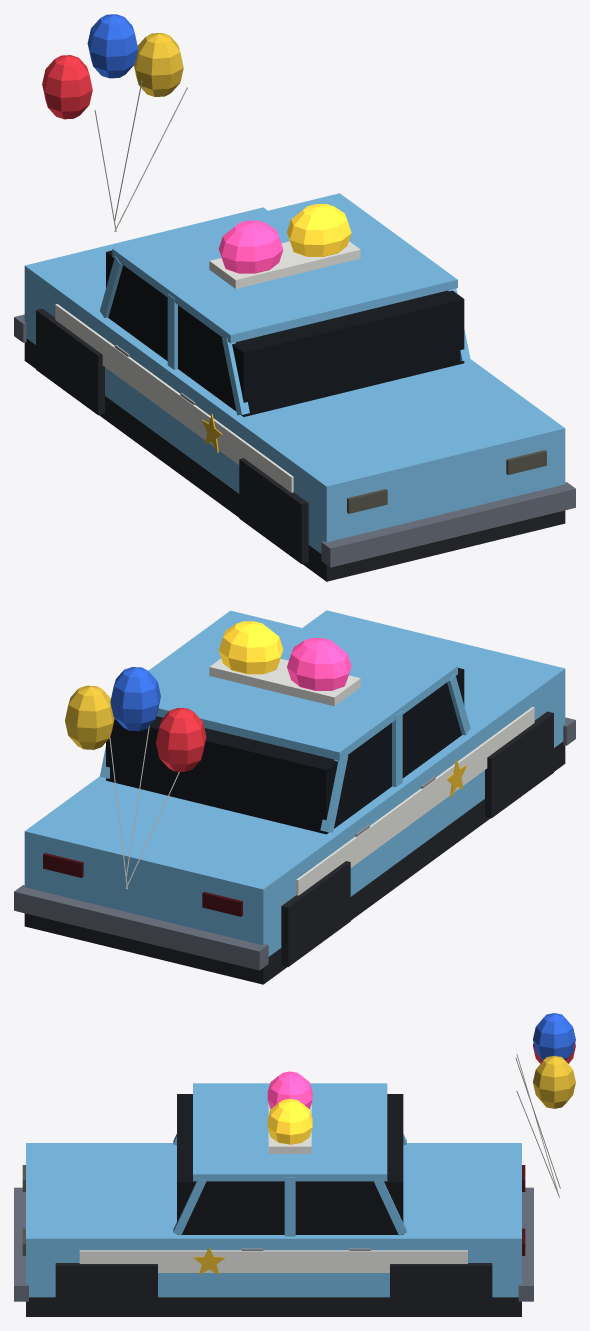
File: party_patrol.glb
The picture shows the model from 3 angles, top to bottom: view 1: azimuth 30°, elevation 25°; view 2: azimuth 150°, elevation 25°; view 3: azimuth 270°, elevation 25°; orthographic projection. The views are drawn at different scales.
Parts seen in each view (by area): view 1: body_party_patrol_sky, body_getaway_glass, body_car_black, balloons, body_car_grey, body_party_patrol_white, siren_toy_siren_pink, siren_toy_siren_yellow, siren_party_patrol_white, frame_party_patrol_sky, lights_lamp_off, balloons_party_patrol_white; view 2: body_party_patrol_sky, body_getaway_glass, body_car_black, balloons, body_car_grey, body_party_patrol_white, siren_toy_siren_yellow, siren_toy_siren_pink, siren_party_patrol_white, frame_party_patrol_sky, lights_tail_off, balloons_party_patrol_white; view 3: body_party_patrol_sky, body_car_black, body_getaway_glass, body_party_patrol_white, balloons, body_car_grey, frame_party_patrol_sky, siren_toy_siren_yellow, siren_toy_siren_pink, siren_party_patrol_white, balloons_party_patrol_white, body_paper_star.
Part boxes in pixels (x1,y1,x2,y2): body_party_patrol_sky: (24,193,565,553); body_getaway_glass: (106,250,464,416); body_car_black: (24,308,565,581); balloons: (42,14,183,119); body_car_grey: (14,314,575,567); body_party_patrol_white: (55,304,293,492); siren_toy_siren_pink: (218,220,283,273); siren_toy_siren_yellow: (287,204,351,256); siren_party_patrol_white: (209,241,360,288); frame_party_patrol_sky: (100,256,470,415); lights_lamp_off: (347,450,546,513); balloons_party_patrol_white: (94,81,187,231); body_party_patrol_sky: (24,610,565,956); body_getaway_glass: (106,668,464,834); body_car_black: (24,711,565,984); balloons: (65,667,206,771); body_car_grey: (14,717,575,970); body_party_patrol_white: (296,707,534,895); siren_toy_siren_yellow: (218,621,283,674); siren_toy_siren_pink: (287,638,351,690); siren_party_patrol_white: (209,658,360,706); frame_party_patrol_sky: (100,673,470,832); lights_tail_off: (43,853,242,916); balloons_party_patrol_white: (109,726,179,889); body_party_patrol_sky: (26,1083,521,1297); body_car_black: (26,1263,521,1316); body_getaway_glass: (177,1094,403,1234); body_party_patrol_white: (79,1250,467,1272); balloons: (533,1013,575,1108); body_car_grey: (14,1187,533,1301); frame_party_patrol_sky: (173,1134,406,1236); siren_toy_siren_yellow: (267,1099,312,1144); siren_toy_siren_pink: (267,1071,312,1109); siren_party_patrol_white: (268,1104,311,1153); balloons_party_patrol_white: (515,1054,560,1197); body_paper_star: (193,1247,225,1274).
Bounding box in the file's own units: 2.22 × 2.56 × 5.21.
